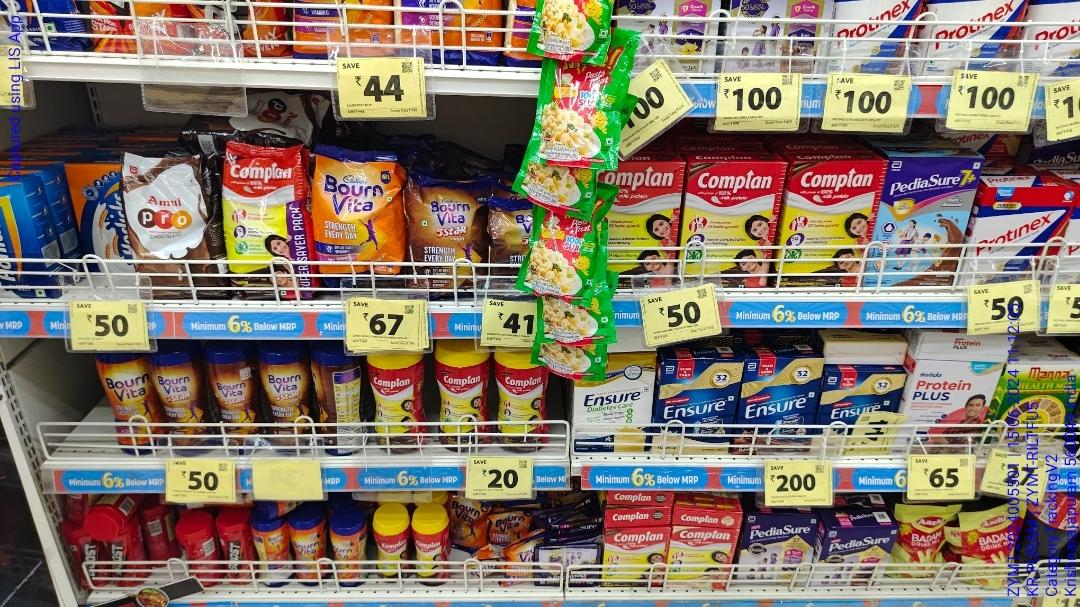BOURN_VITA_200_G_JAR: (290, 516, 328, 587), (333, 519, 369, 586)
BOURN_VITA_500_G_JAR: (109, 355, 152, 458)
BOURN_VITA_750_G_POUCH: (316, 147, 402, 278)
BOURN_VITA_FIVE_STAR_MAGIC_500_G_JAR: (261, 340, 309, 453), (156, 355, 205, 456), (212, 348, 258, 453)
BOURN_VITA_FIVE_STAR_MAGIC_750_G_POUCH: (407, 176, 483, 298)
COMPLAN_CHOCOLATE_200_GMS_JAR: (412, 512, 450, 586), (374, 513, 410, 586)
COMPLAN_CHOCOLATE_200_GMS_PACK: (603, 526, 665, 586)
COMPLAN_CHOCOLATE_500_GMS_JAR: (432, 342, 488, 451), (494, 349, 550, 453), (371, 354, 425, 456)
COMPLAN_CHOCOLATE_500_GMS_PACK: (682, 159, 771, 286), (779, 158, 865, 288)
COMPLAN_KESAR_BADAM_200_GMS_PACK: (667, 524, 732, 588)
ENSURE_VANILLA_400_G_PACK: (655, 361, 732, 453)
HORLICK_CHOCOLATE_750_G_POUCH: (226, 145, 311, 302)
PEDIASURE_7_PLUS_CHOCOLATE_400_G_PACK: (884, 157, 974, 290)
